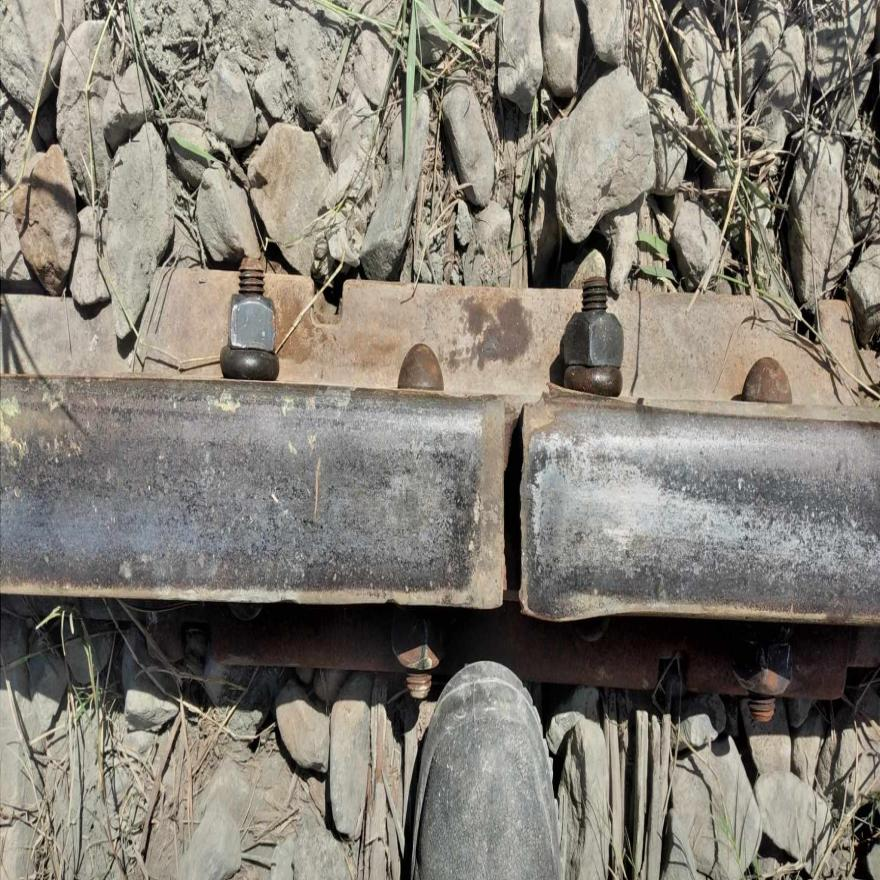railway-gap: (446, 351, 579, 658)
